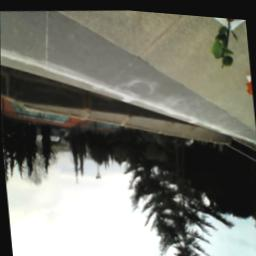herb: (209, 19, 241, 68)
